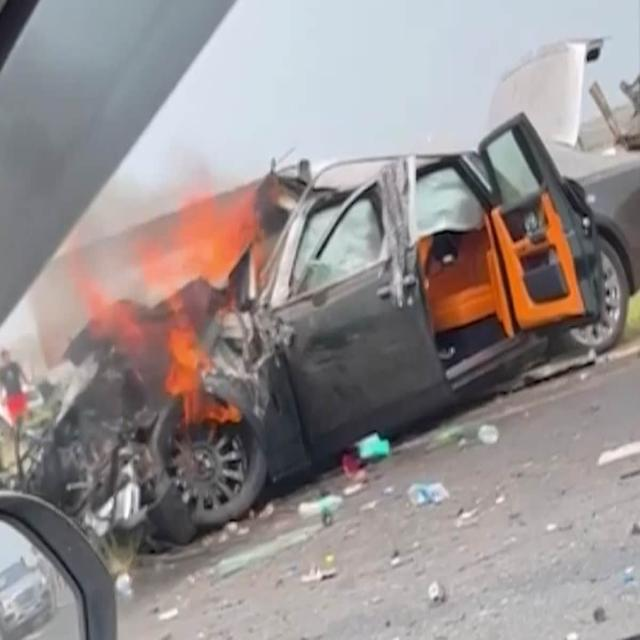accident: (15, 114, 640, 541)
